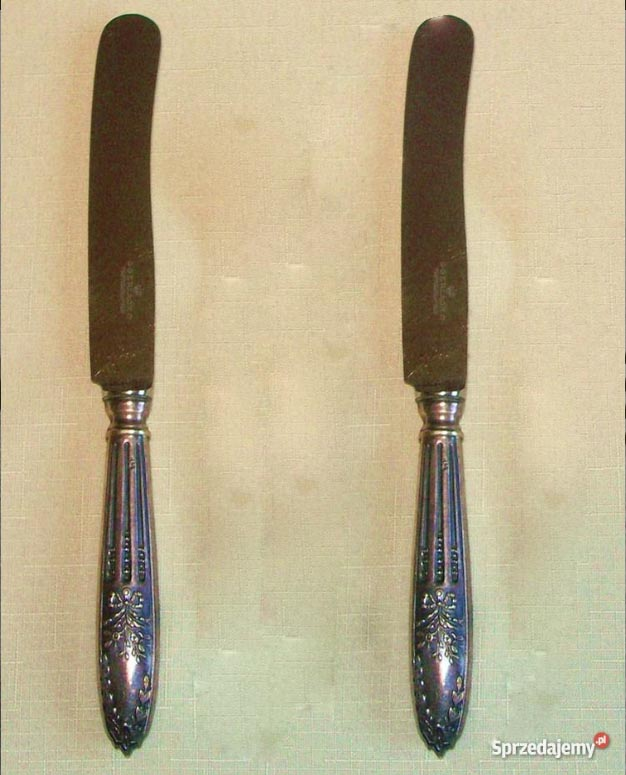Noz: (396, 16, 482, 391), (83, 9, 166, 388)
